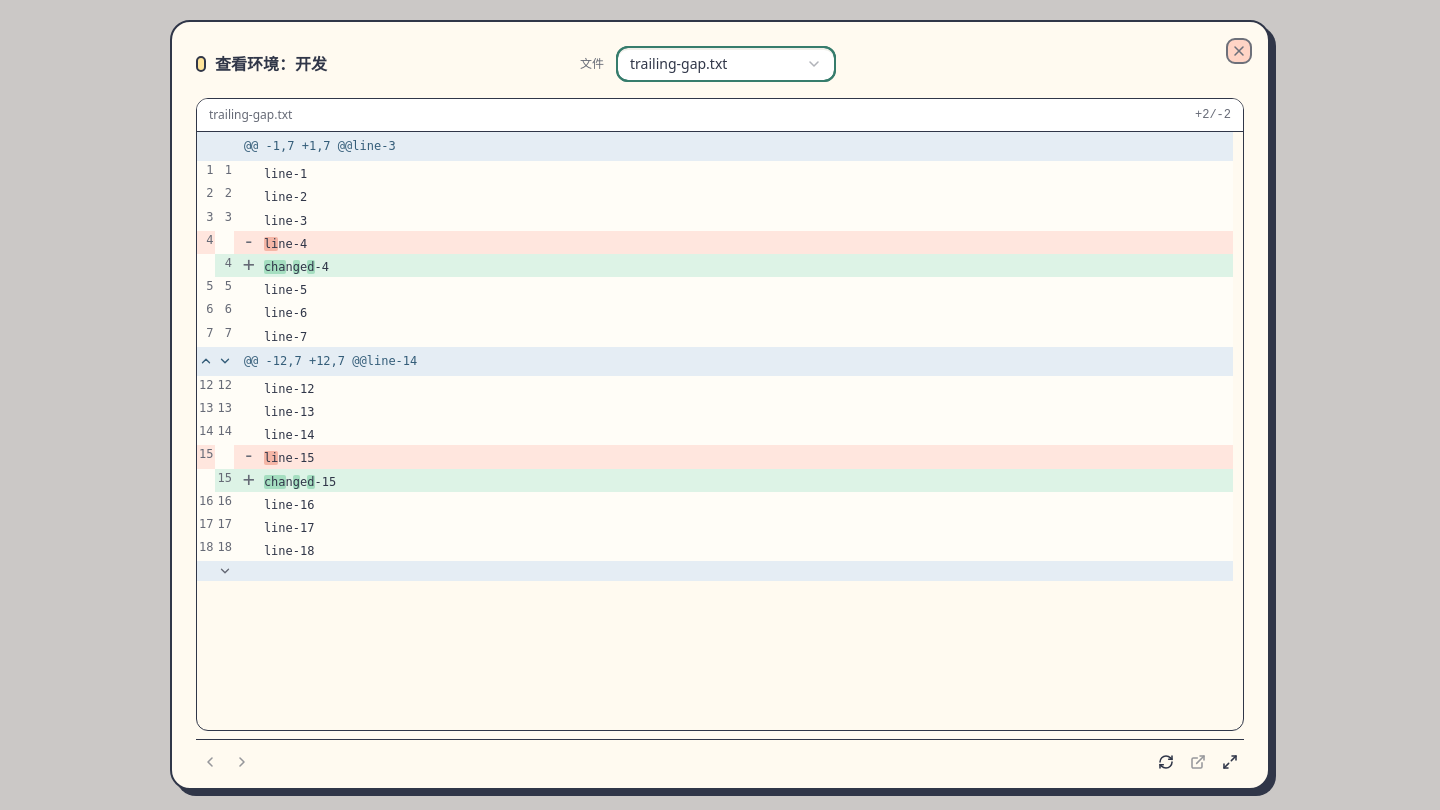
Test: EnvironmentDiffDialog › offers only downward expansion for a trailing gap
The width and height of the screenshot is (1440, 810).
Click the 2nd button named "向下展开10行" at [225, 571], box [215,561,234,581]
(page scrolled)
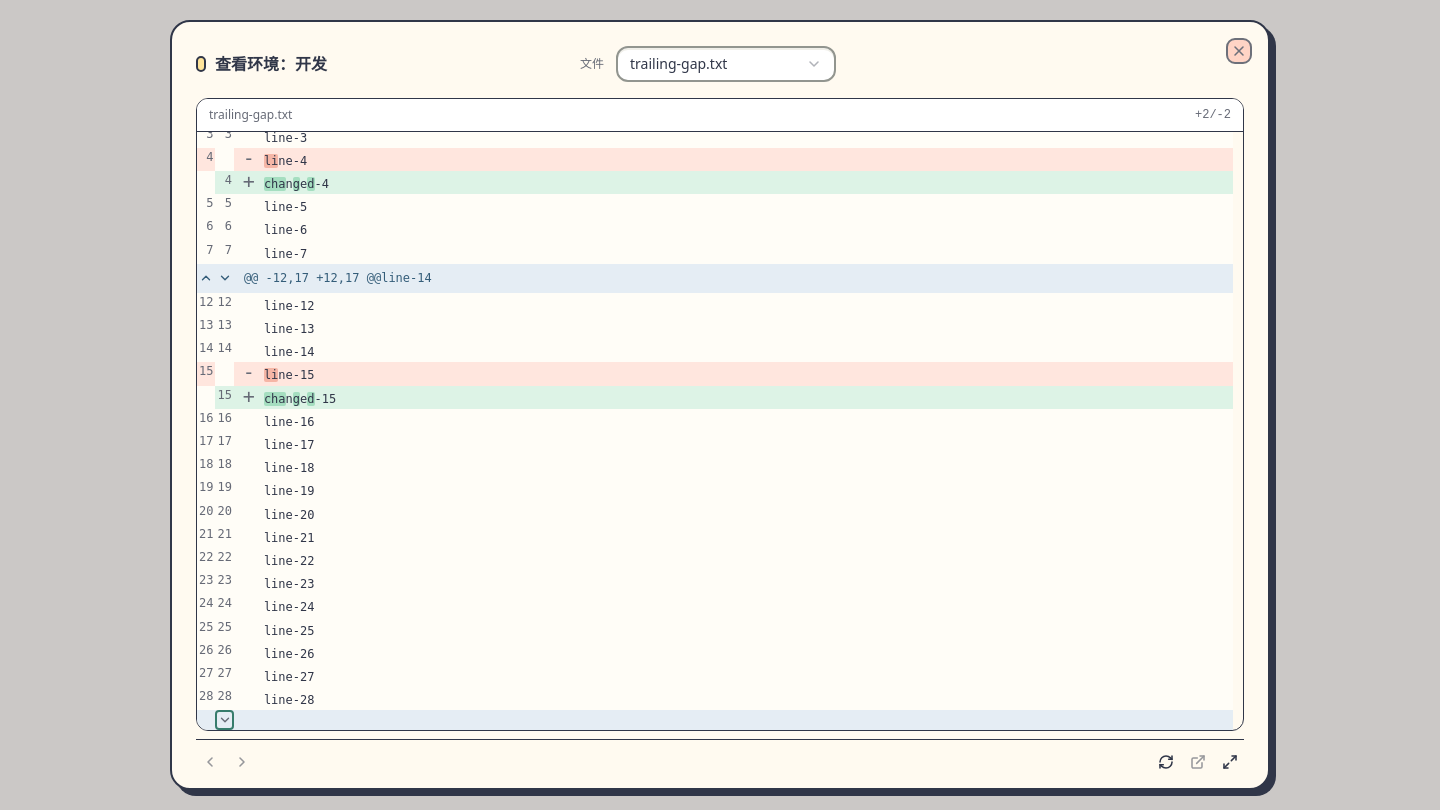
Click the 2nd button named "向下展开10行" at [225, 720], box [215,710,234,730]
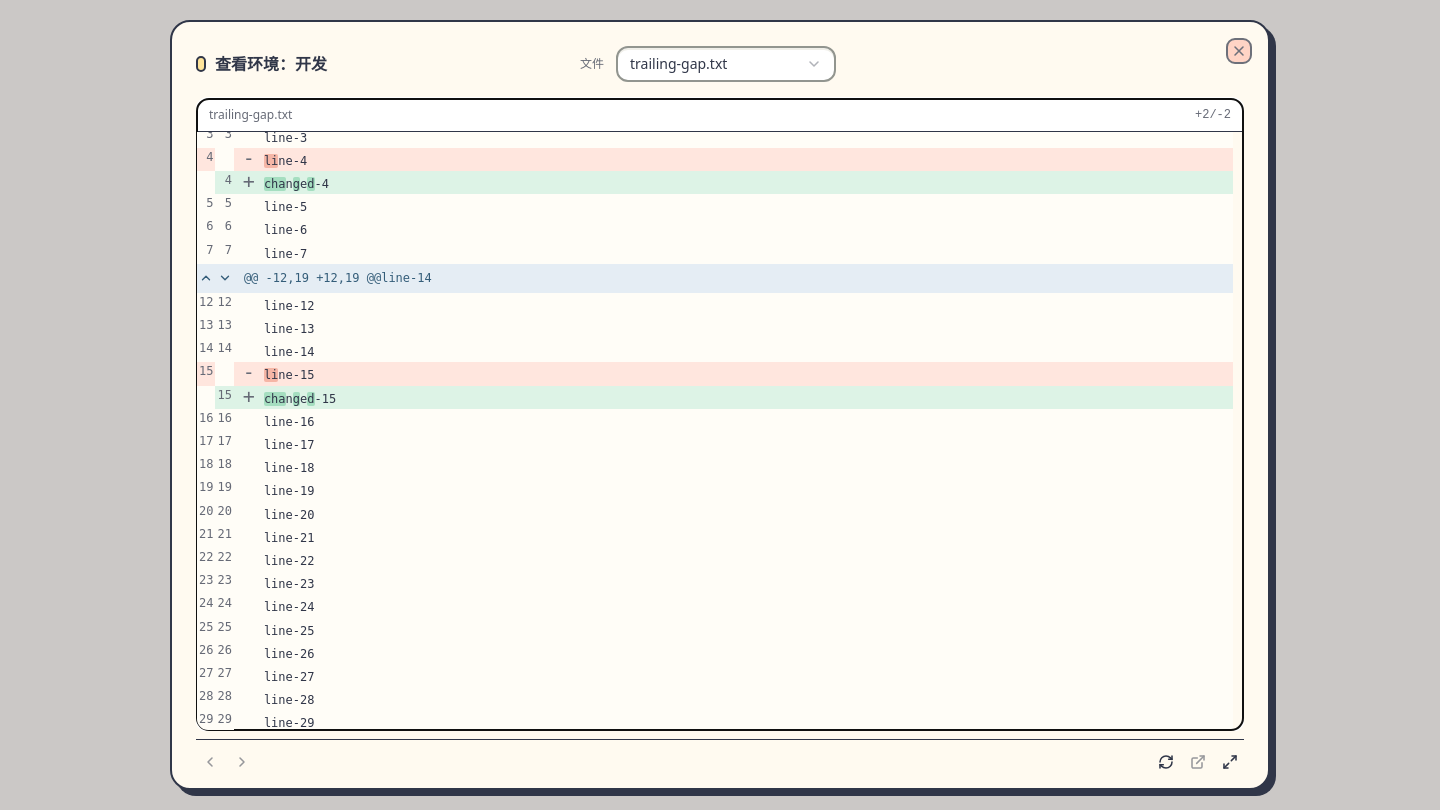
expect the row with test id "environment-diff-hunk-header" reads "@@ -12,19 +12,19 @@ line-14": met, box [197,264,1233,293]
